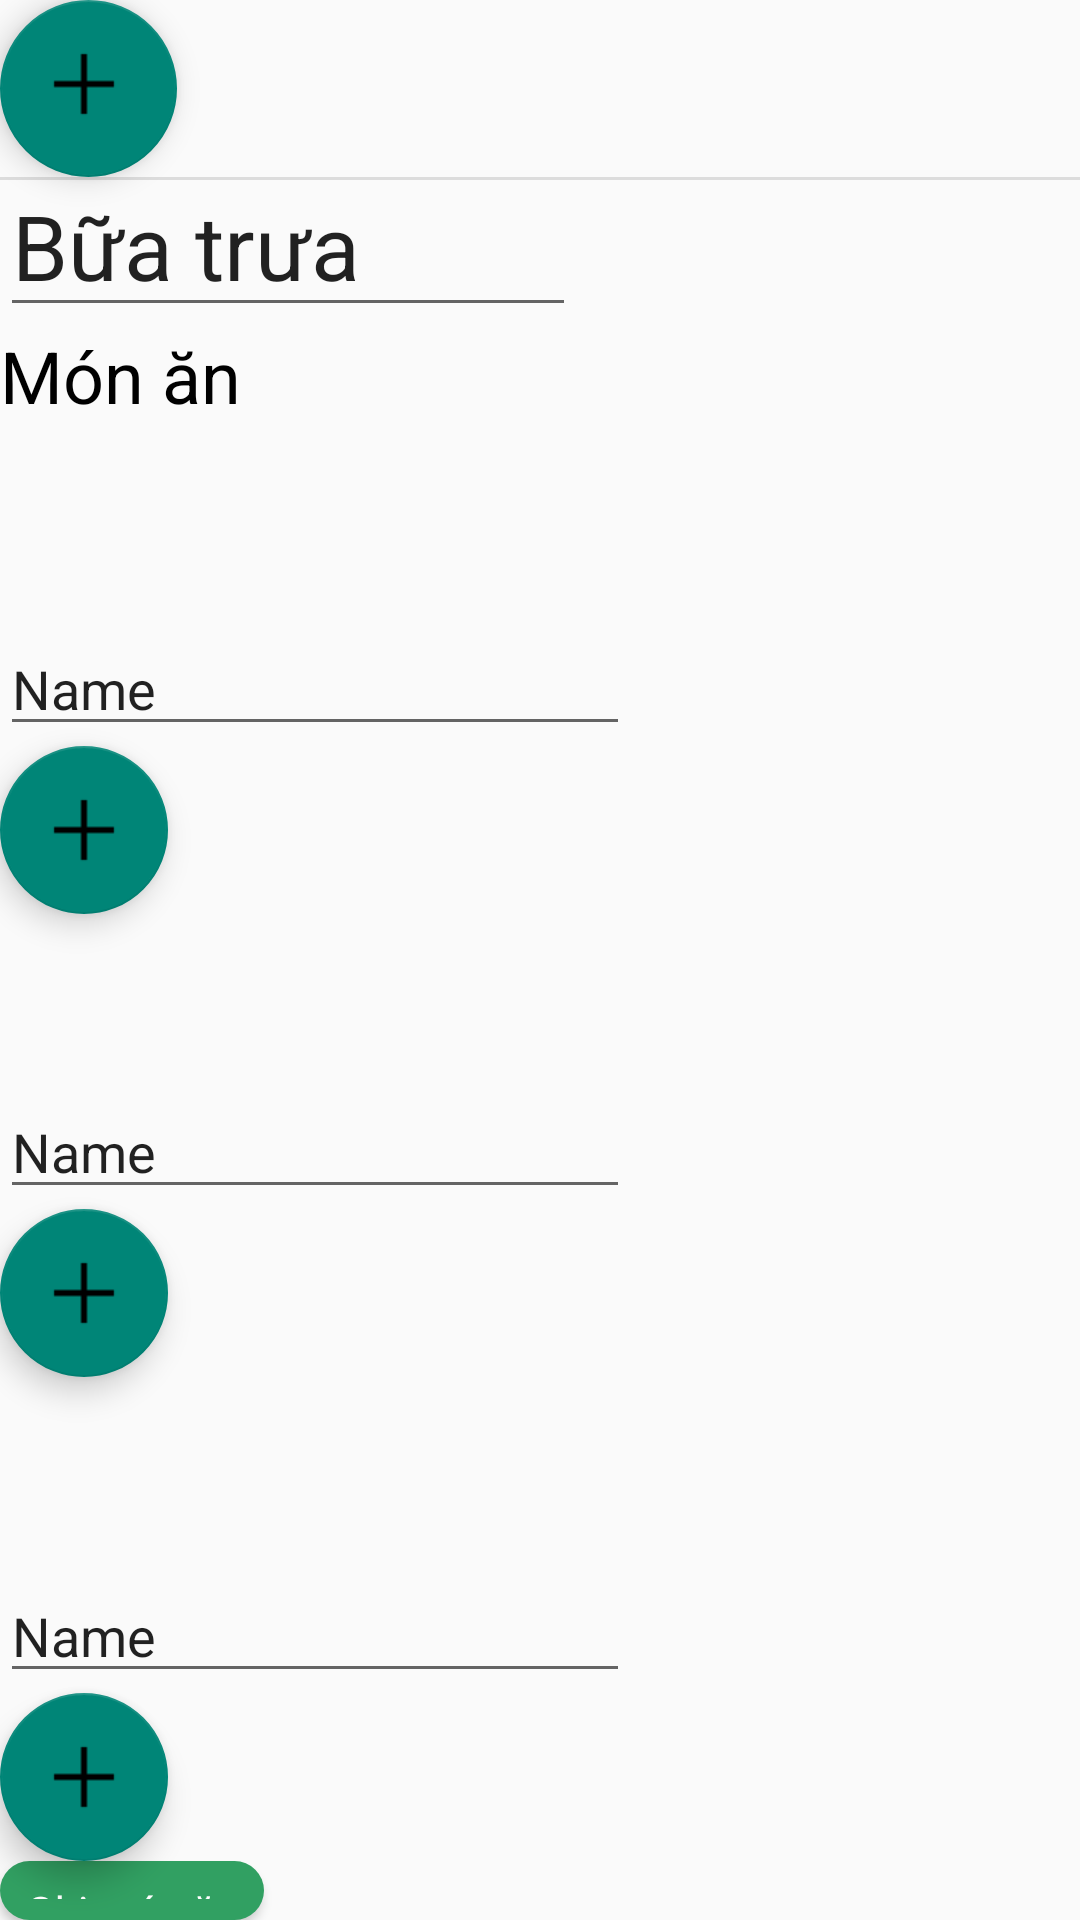

Screen size 1080 x 1920. Icon name, then its box in pixels as BBox(x1, y1, x2, y2):
plus: BBox(0, 0, 177, 177), BBox(0, 746, 168, 914), BBox(0, 1209, 168, 1377), BBox(0, 1693, 168, 1861)
